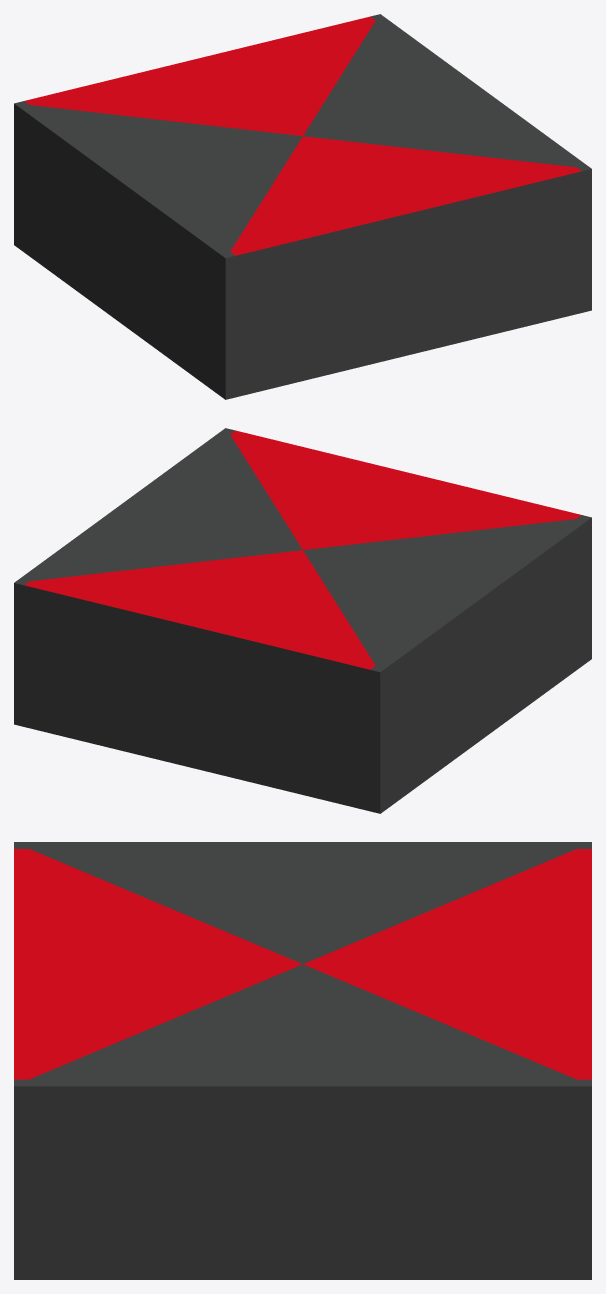
Rendered from inside_portal_world.fbx.
The picture shows the model from 3 angles, top to bottom: view 1: azimuth 30°, elevation 25°; view 2: azimuth 150°, elevation 25°; view 3: azimuth 270°, elevation 25°; orthographic projection. The views are drawn at different scales.
Parts seen in each view (by area): view 1: Cube.002; view 2: Cube.002; view 3: Cube.002.
Boxes of the visible parts, x1=… form: Cube.002: x1=14, y1=14, x2=591, y2=399; Cube.002: x1=14, y1=428, x2=591, y2=813; Cube.002: x1=14, y1=842, x2=591, y2=1279.
Size of the model in its own units: 5807 by 2145 by 5807.
